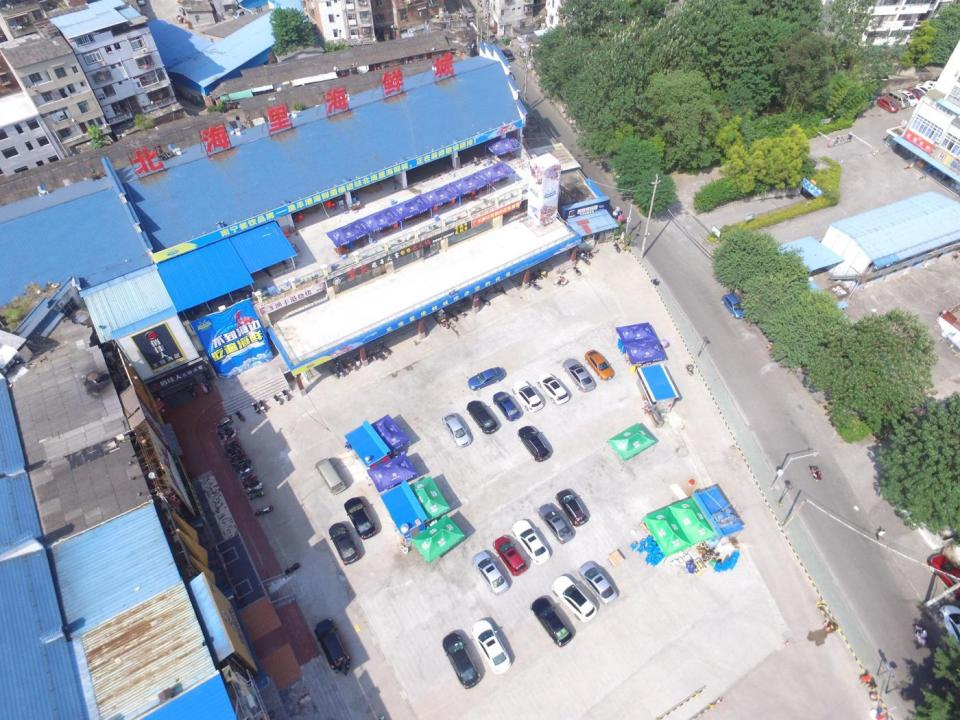car: (442, 632, 480, 689), (314, 616, 350, 676), (472, 620, 512, 674), (552, 575, 597, 623), (530, 597, 573, 647), (512, 519, 550, 566), (472, 550, 510, 596), (579, 561, 618, 605), (537, 502, 574, 544), (344, 496, 376, 540), (928, 554, 960, 597), (493, 536, 527, 576), (328, 523, 360, 565), (555, 490, 589, 526), (517, 426, 551, 461), (562, 359, 596, 392), (466, 401, 498, 434), (511, 380, 544, 412), (537, 371, 569, 404), (442, 412, 472, 447), (585, 349, 614, 381), (467, 366, 504, 391), (938, 604, 960, 644), (493, 391, 520, 421), (721, 294, 747, 318), (896, 88, 920, 109), (876, 97, 899, 114), (908, 86, 926, 100), (916, 83, 934, 94), (464, 6, 474, 19), (925, 80, 937, 88)
van: (314, 457, 347, 496), (886, 90, 910, 108), (480, 29, 496, 44), (501, 49, 515, 62), (232, 7, 246, 18)
